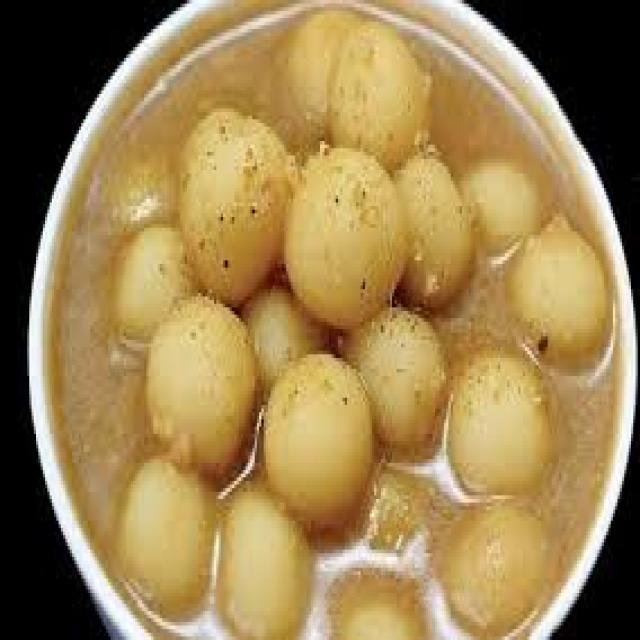paal kolukattai: (39, 0, 636, 640)
